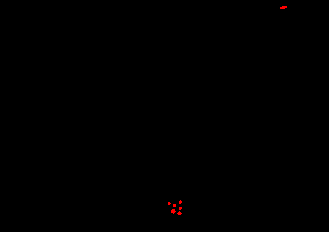Target: (171, 209, 176, 214), (280, 6, 287, 9), (177, 211, 182, 215), (179, 200, 182, 204), (168, 202, 171, 205), (173, 204, 176, 207), (179, 207, 182, 210)
